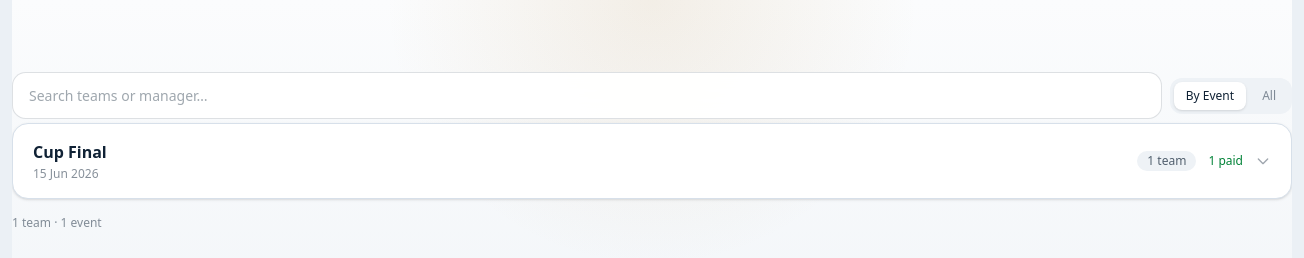
Test: TeamsTab › switches to All view and shows team cards
This screenshot has width=1304, height=258.
Click the button "All".
click(1269, 96)  # box [1250,82,1288,110]
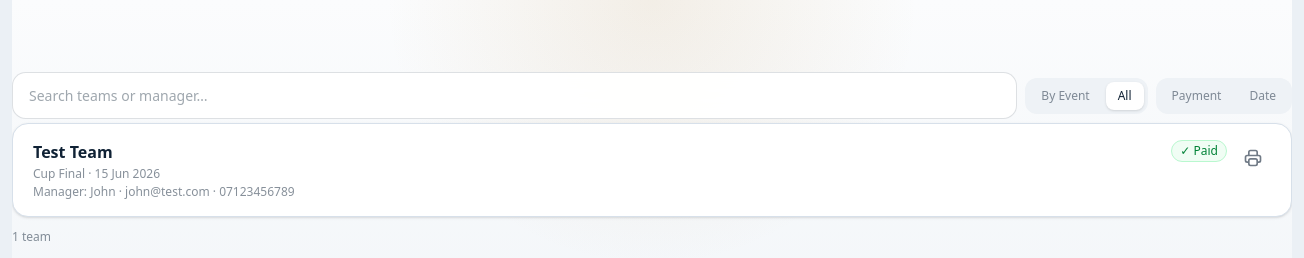
Expected: the text "Test Team" is shown, [33,141,113,163]
Expected: the text "Cup Final · 15 Jun 2026" is shown, [33,165,160,182]
